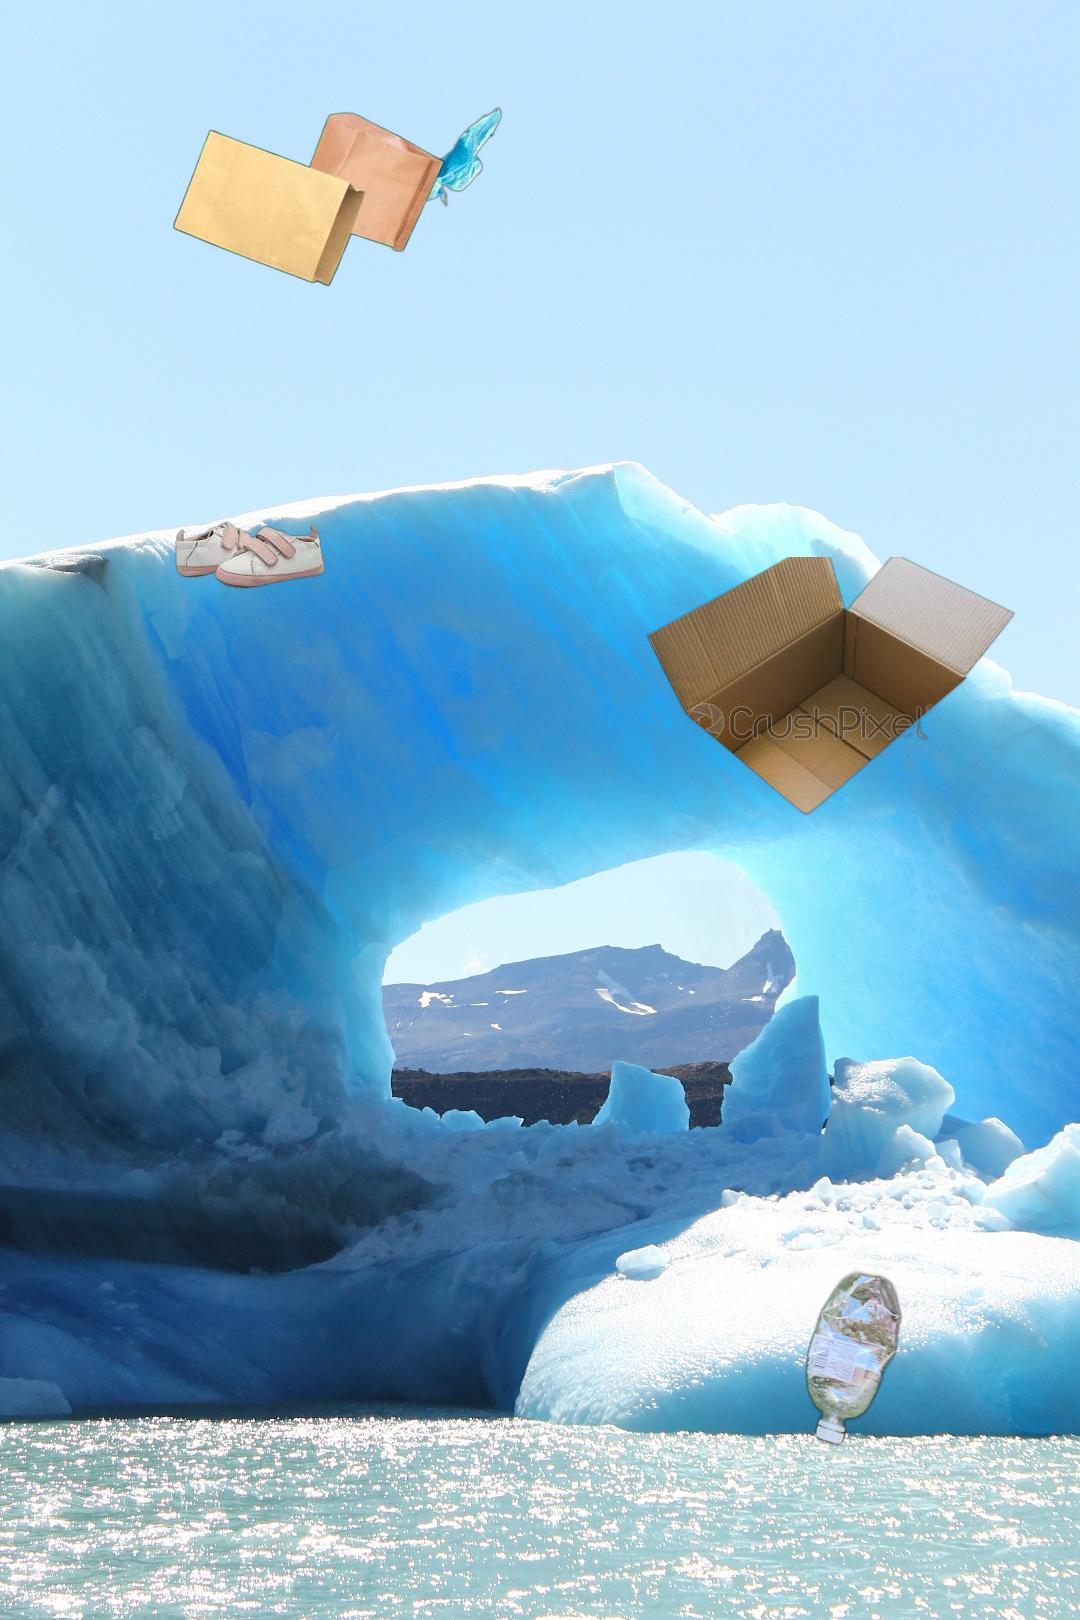paper-bag: (171, 110, 445, 289)
plastic-bag: (423, 105, 505, 209)
plastic-bottles: (650, 880, 1019, 1450)
shoes: (174, 520, 327, 591)
trashbox-cardboard: (633, 557, 1041, 891)
